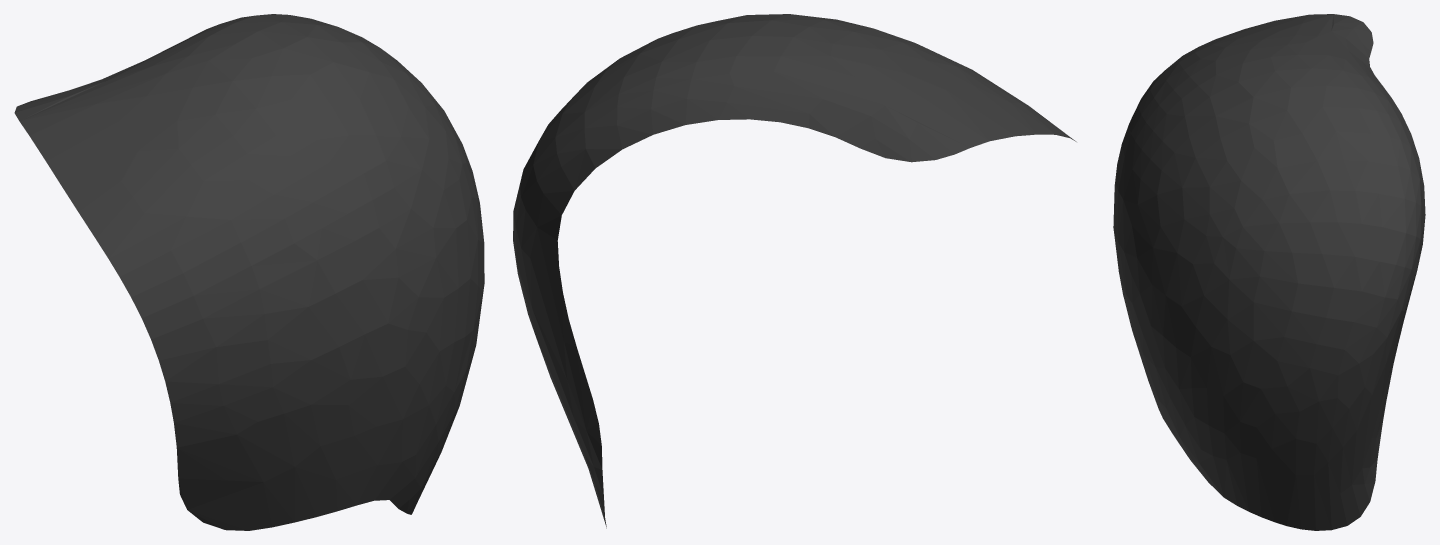
The model's file is Humerus_head.glb.
3 renders of one model, left to right at view 1: azimuth 30°, elevation 25°; view 2: azimuth 150°, elevation 25°; view 3: azimuth 270°, elevation 25°, orthographic. The views are drawn at different scales.
Visible parts, largest first — view 1: Humerus_head; view 2: Humerus_head; view 3: Humerus_head.
Boxes of the visible parts, x1=… form: Humerus_head: x1=14, y1=14, x2=484, y2=530; Humerus_head: x1=513, y1=14, x2=1076, y2=528; Humerus_head: x1=1113, y1=14, x2=1425, y2=530.
Size of the model in its own units: 0.3065 by 0.3299 by 0.2257.
1 material, 1 textured.
